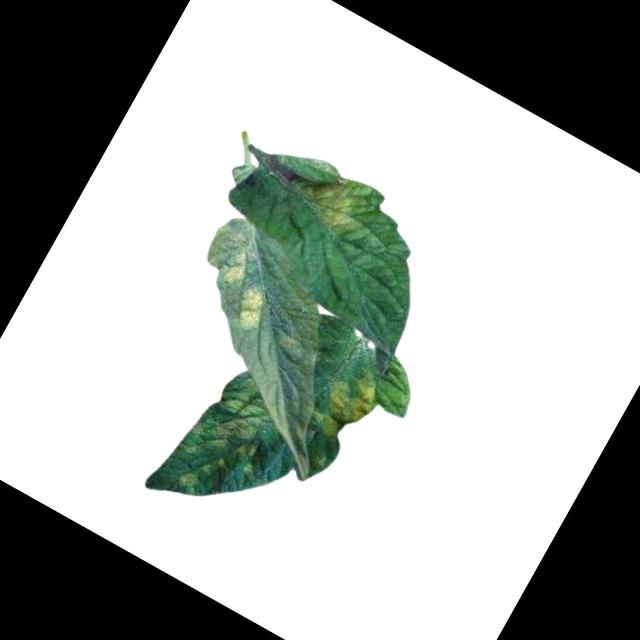Leaf_Mold: (303, 362, 386, 453), (286, 159, 372, 243), (203, 378, 279, 455), (221, 277, 276, 339), (211, 244, 254, 291)
